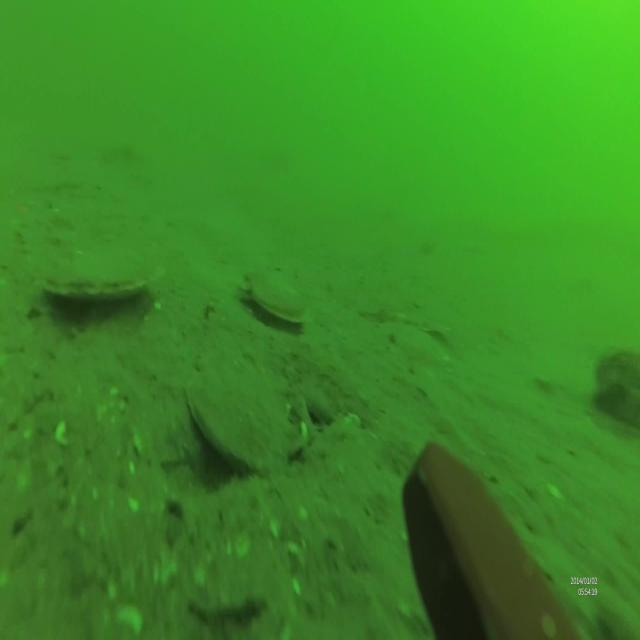scallop: (183, 369, 292, 476), (43, 252, 168, 308), (237, 265, 311, 328)
